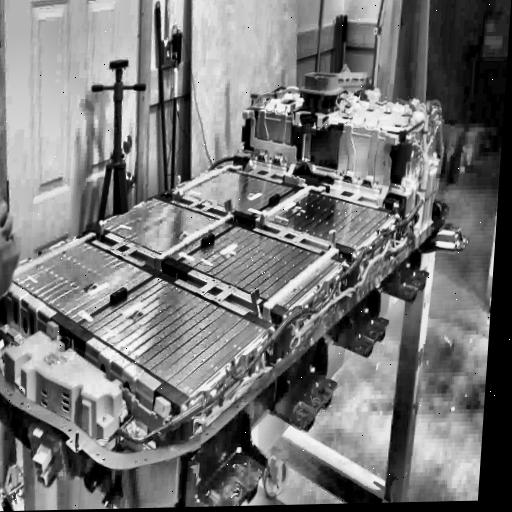battery_module: (81, 277, 266, 396), (180, 225, 341, 309), (7, 236, 153, 323), (253, 186, 391, 250), (98, 198, 233, 260), (172, 166, 294, 215)
busbar: (247, 225, 346, 331), (145, 189, 242, 280), (6, 216, 106, 295), (240, 106, 308, 190), (168, 161, 255, 204), (371, 130, 402, 211), (297, 68, 346, 111), (288, 101, 332, 136)
high_volt_cable: (201, 105, 432, 431)
low_volt_cable: (107, 104, 448, 449)
